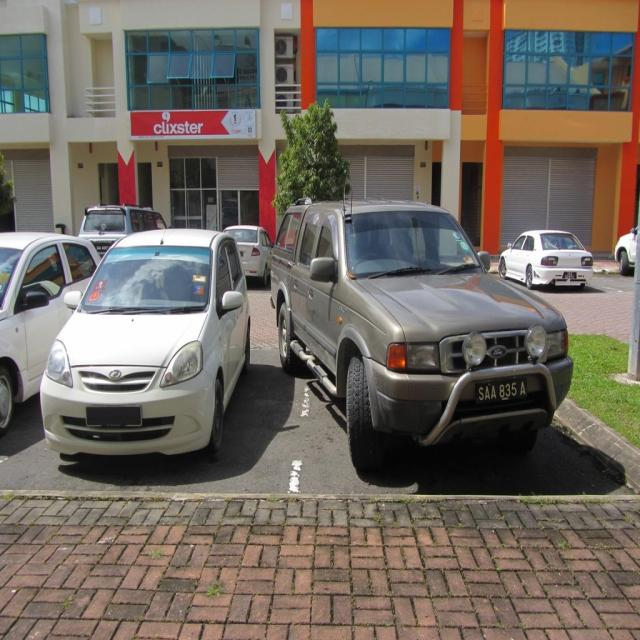car: (268, 182, 575, 467), (40, 208, 252, 455), (38, 211, 251, 455), (494, 223, 595, 292), (493, 225, 596, 289)
